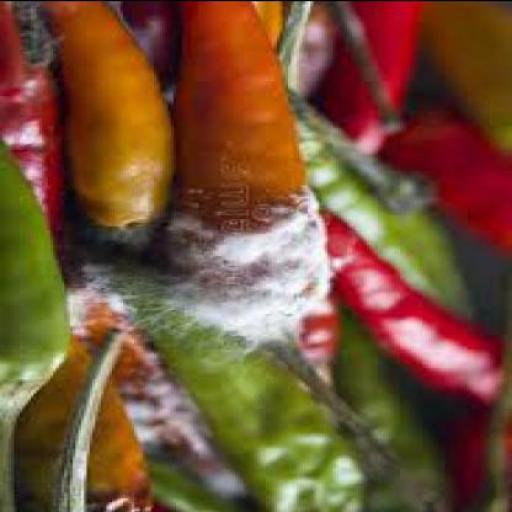biodegradable: (170, 1, 449, 511), (156, 330, 373, 511), (322, 210, 511, 410), (50, 2, 168, 317), (302, 111, 476, 322), (81, 298, 249, 501), (2, 142, 74, 510), (19, 339, 159, 511), (343, 306, 453, 511), (391, 100, 511, 257), (3, 2, 70, 275), (320, 2, 426, 157), (299, 101, 437, 214), (428, 1, 511, 158), (252, 2, 335, 100), (450, 404, 512, 510), (291, 286, 342, 414), (145, 455, 254, 511)
